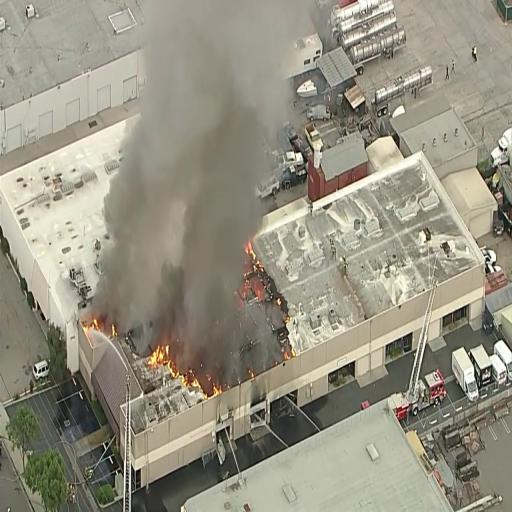smoke: (156, 8, 269, 278)
